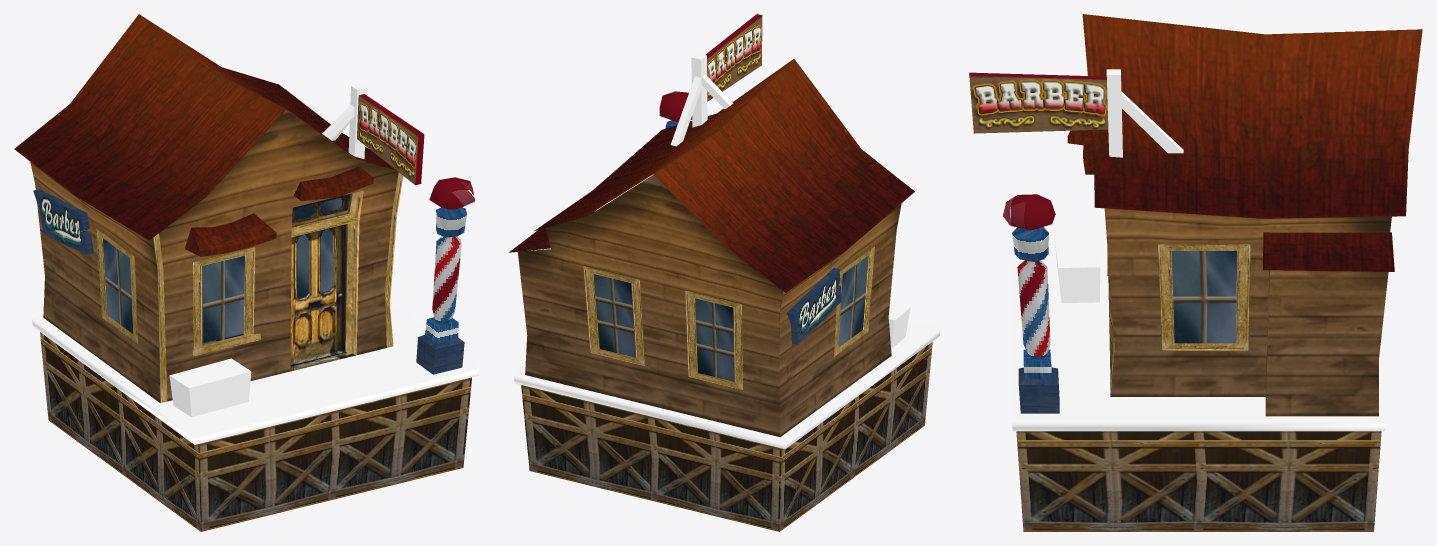
3 views of the same model, side by side, from view 1: azimuth 30°, elevation 25°; view 2: azimuth 150°, elevation 25°; view 3: azimuth 270°, elevation 25° (orthographic). The views are drawn at different scales.
Parts seen in each view (by area): view 1: walls, roof, base, deck, windows, frames, signs, pole, box_bench, wood; view 2: walls, roof, base, windows, deck, frames, signs, wood, pole, box_bench; view 3: roof, walls, base, deck, signs, pole, windows, frames, box_bench, wood.
Part boxes in pixels (<box>): walls: <box>30,110,398,402</box>; roof: <box>14,14,396,256</box>; base: <box>40,332,471,531</box>; deck: <box>31,302,479,444</box>; windows: <box>103,193,352,365</box>; frames: <box>96,172,403,402</box>; signs: <box>33,96,464,374</box>; pole: <box>359,94,474,343</box>; box_bench: <box>169,358,251,417</box>; wood: <box>322,83,367,158</box>; walls: <box>517,175,901,436</box>; roof: <box>509,59,914,292</box>; base: <box>521,342,932,531</box>; windows: <box>593,256,868,381</box>; deck: <box>513,320,940,449</box>; frames: <box>583,246,874,389</box>; signs: <box>707,15,841,346</box>; wood: <box>670,53,732,146</box>; pole: <box>659,14,761,128</box>; box_bench: <box>888,303,910,348</box>; roof: <box>1067,14,1422,271</box>; walls: <box>1104,208,1391,416</box>; base: <box>1016,431,1381,531</box>; deck: <box>1012,262,1385,431</box>; signs: <box>969,76,1108,413</box>; pole: <box>969,72,1106,379</box>; windows: <box>1171,251,1236,343</box>; frames: <box>1107,244,1250,394</box>; box_bench: <box>1054,231,1100,303</box>; wood: <box>1106,69,1183,157</box>.
Size of the model in its own units: 398 by 483 by 458.
11 materials, 8 textured.
